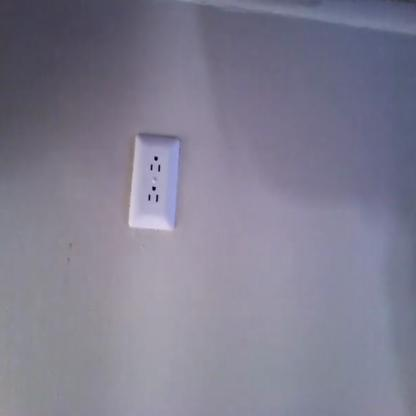OUTLET: (128, 136, 180, 230)
